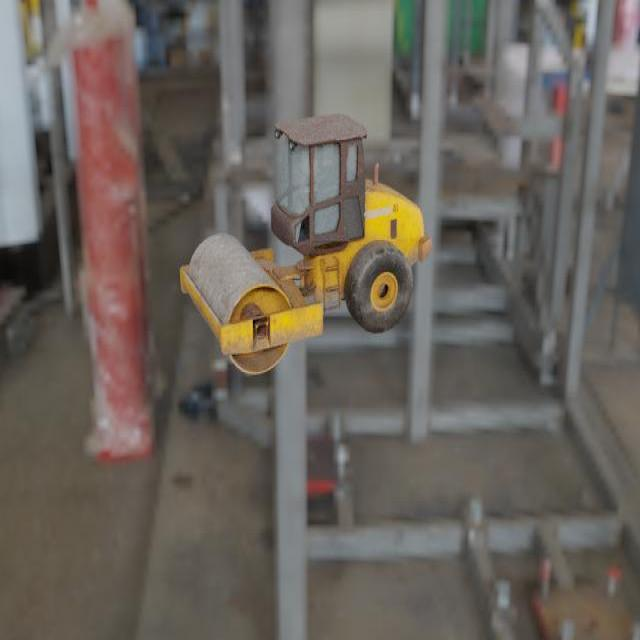Roller: (179, 112, 432, 375)
